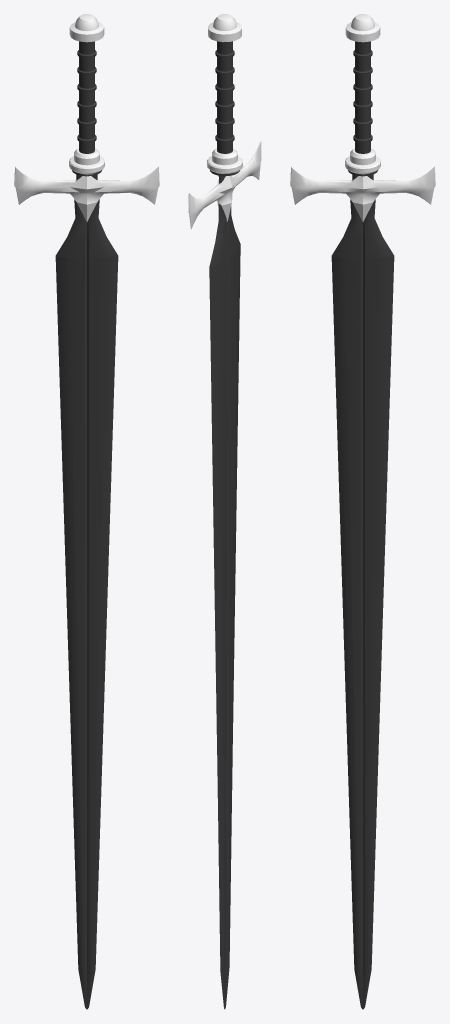
Rendered from Durandal.fbx.
The picture shows the model from 3 angles, left to right: view 1: azimuth 90°, elevation 25°; view 2: azimuth 150°, elevation 25°; view 3: azimuth 270°, elevation 25°; orthographic projection.
Visible parts, largest first — view 1: Durandal; view 2: Durandal; view 3: Durandal.
Part boxes in pixels (box(x1,y1,x2,y2)): Durandal: box(14, 14, 159, 1009); Durandal: box(188, 14, 261, 1009); Durandal: box(290, 14, 435, 1009).
Size of the model in its own units: 5.16 by 156 by 20.71.
